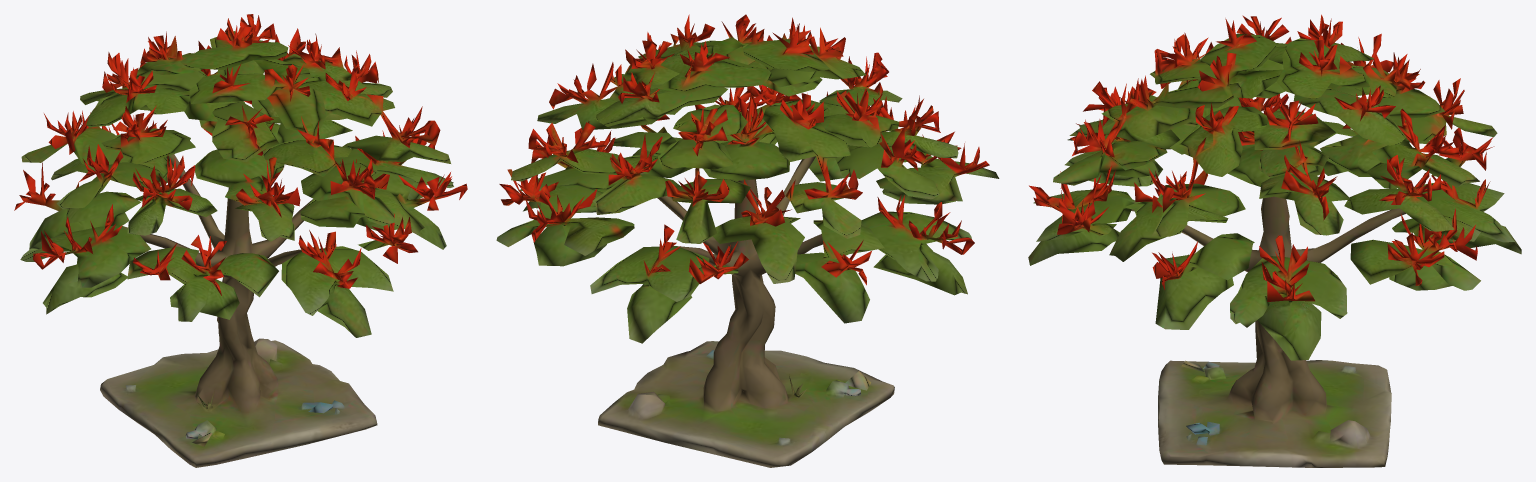
Rendered from tree_flame.glb.
The picture shows the model from 3 angles, left to right: view 1: azimuth 30°, elevation 25°; view 2: azimuth 150°, elevation 25°; view 3: azimuth 270°, elevation 25°; orthographic projection. The views are drawn at different scales.
Visible parts, largest first — view 1: tripo_node_82a4db2c-b8e4-464f-8c25-9f0b1b25ee38; view 2: tripo_node_82a4db2c-b8e4-464f-8c25-9f0b1b25ee38; view 3: tripo_node_82a4db2c-b8e4-464f-8c25-9f0b1b25ee38.
Part boxes in pixels (x1=…): tripo_node_82a4db2c-b8e4-464f-8c25-9f0b1b25ee38: x1=14, y1=14, x2=467, y2=467; tripo_node_82a4db2c-b8e4-464f-8c25-9f0b1b25ee38: x1=496, y1=14, x2=999, y2=467; tripo_node_82a4db2c-b8e4-464f-8c25-9f0b1b25ee38: x1=1028, y1=14, x2=1521, y2=467.
Size of the model in its own units: 1 by 0.8389 by 0.9687.
1 material, 1 textured.
